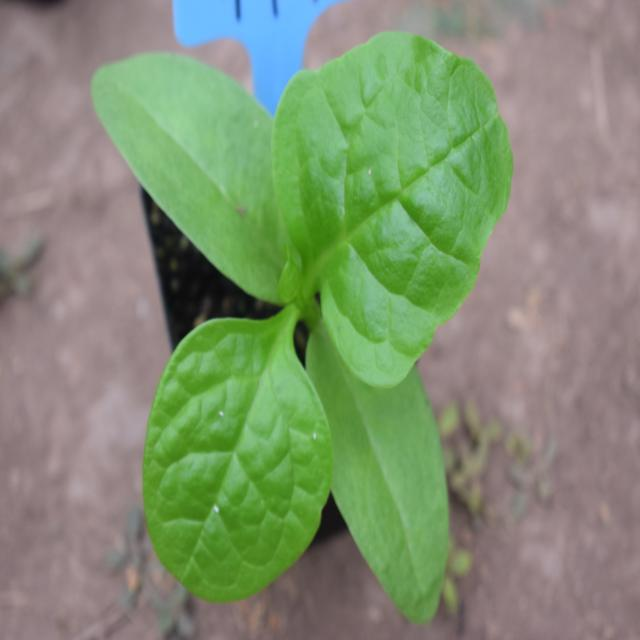Ceylon spinach: (106, 24, 498, 629)
